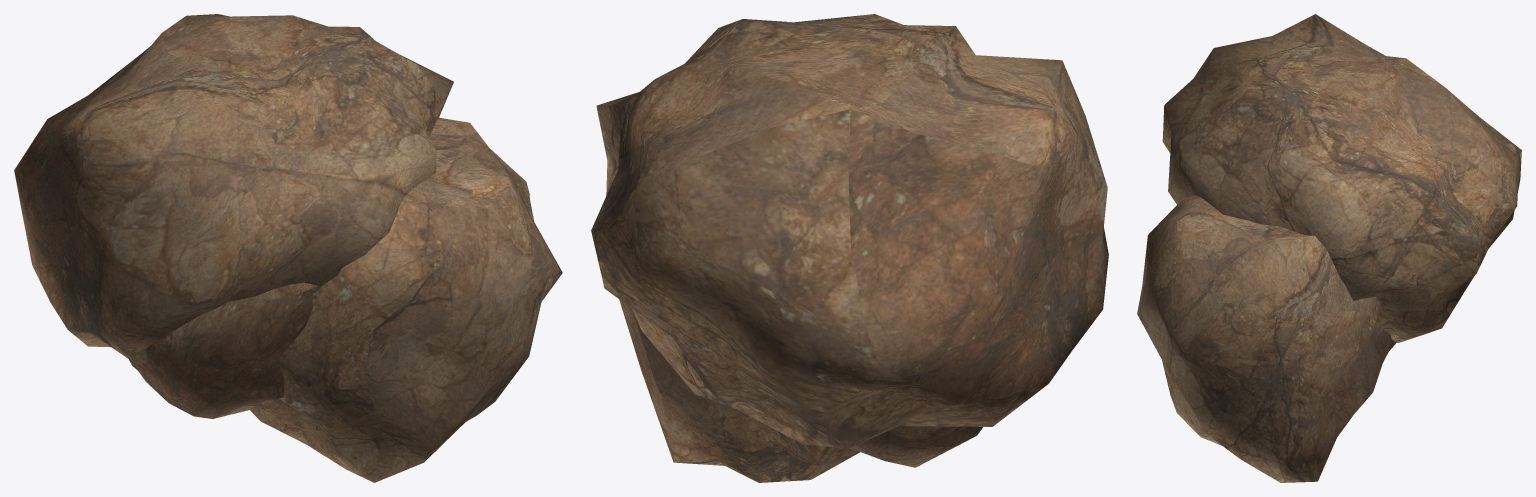
File: rock_1.glb
3 views of the same model, side by side, from view 1: azimuth 30°, elevation 25°; view 2: azimuth 150°, elevation 25°; view 3: azimuth 270°, elevation 25° (orthographic). The views are drawn at different scales.
Visible parts, largest first — view 1: BoulderA; view 2: BoulderA; view 3: BoulderA.
Boxes of the visible parts, box(x1,y1,x2,y2) form: BoulderA: box(14, 14, 562, 482); BoulderA: box(591, 14, 1108, 482); BoulderA: box(1137, 14, 1521, 482).
Bounding box in the file's own units: 2.07 × 1.91 × 1.94.
Materials: 1 (1 with a texture image).
